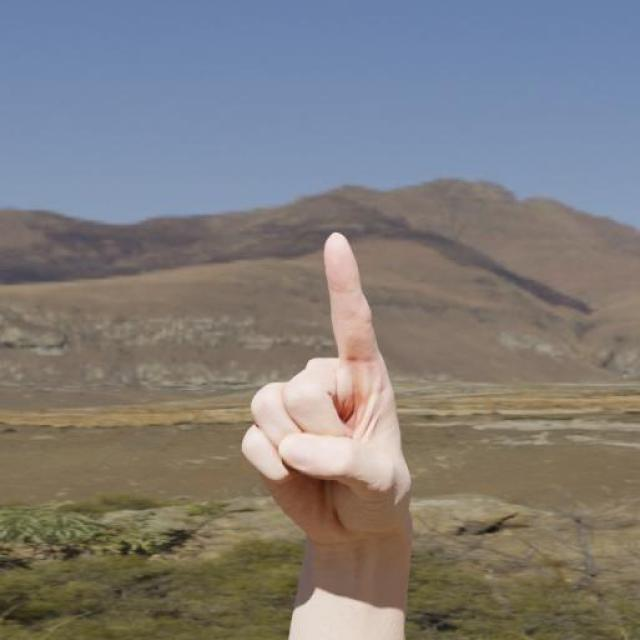Z: (236, 230, 418, 551)
